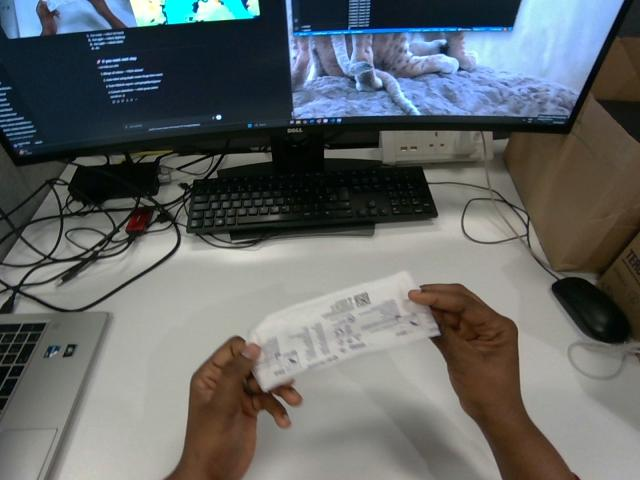syringe: (248, 271, 439, 390)
